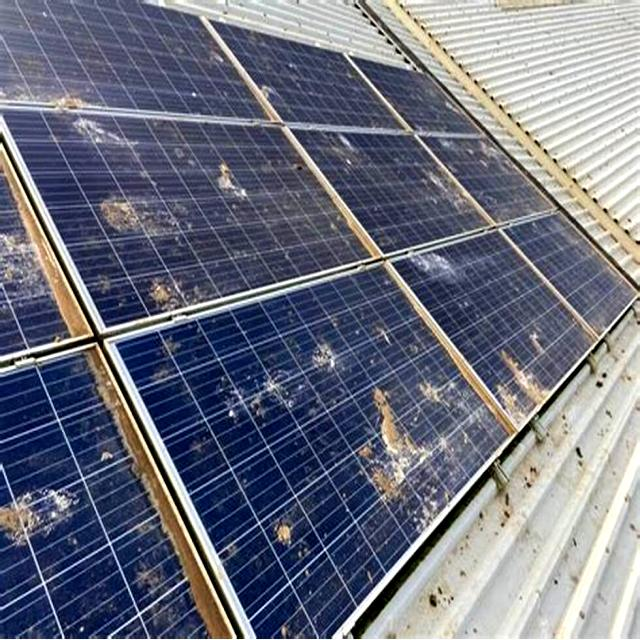bird: (247, 334, 338, 432), (492, 316, 558, 426), (357, 376, 413, 501), (91, 179, 178, 250), (0, 468, 71, 554), (256, 495, 316, 592), (140, 242, 200, 326), (0, 224, 41, 312), (419, 358, 465, 421), (210, 163, 260, 212), (40, 80, 90, 121)
